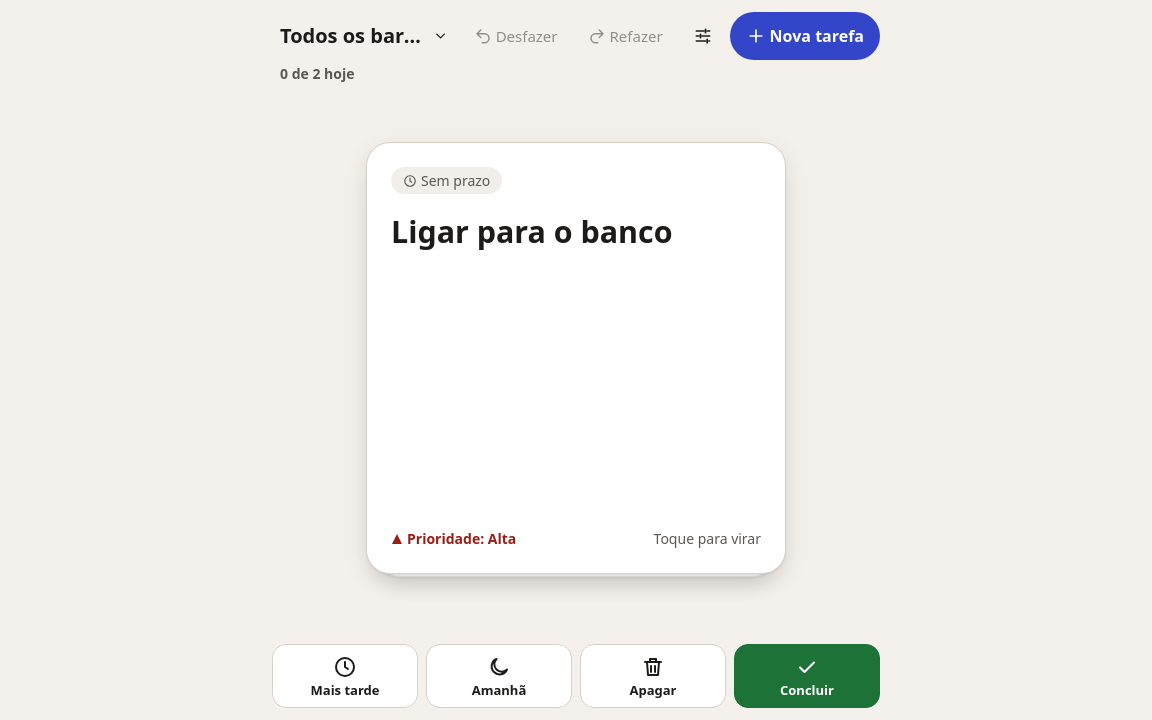
Test case: Tomorrow (snooze) from the deck › the "Amanhã" button hides the card, announces it with undo, and lists it under "Para amanhã"
This screenshot has width=1152, height=720.
Click the button "Amanhã" at (499, 676), box [426,644,572,708]
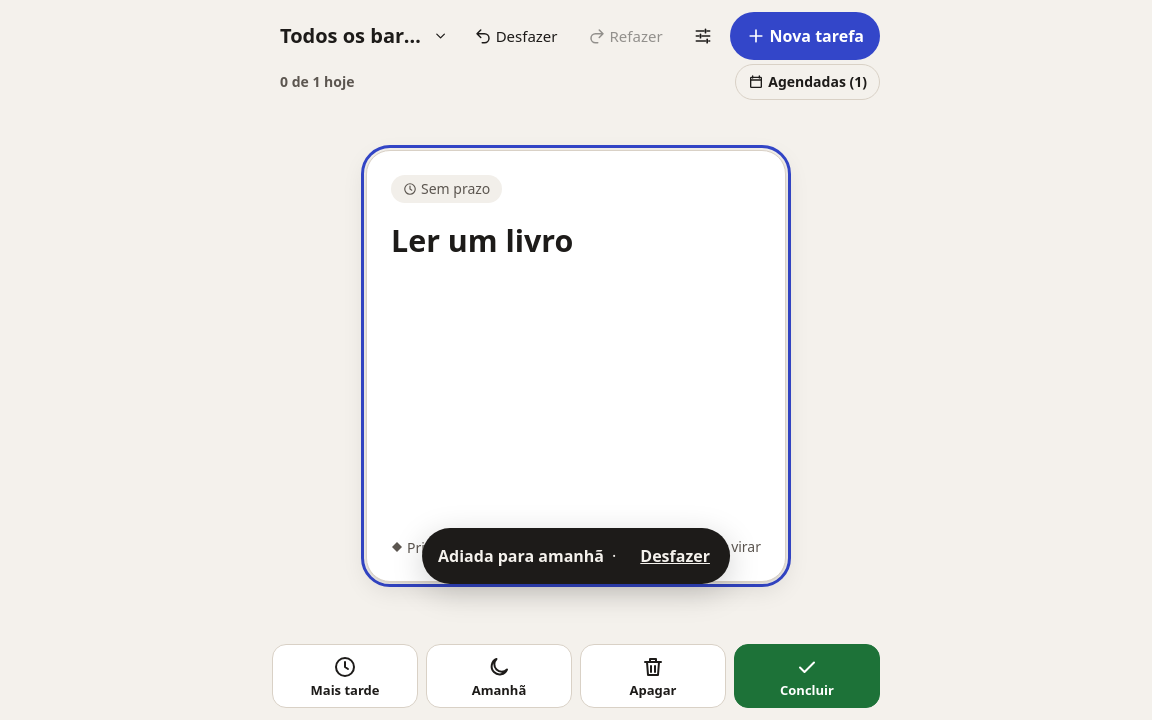
Expected: the element with test id "undo-toast" shows "Adiada para amanhã", [438,545,604,567]
Expected: the text with test id "daily-progress" reads "0 de 1 hoje", [280,72,354,91]
Click the button with aria-label "Agendadas: 1 carta" at (808, 82), box [735,64,880,100]
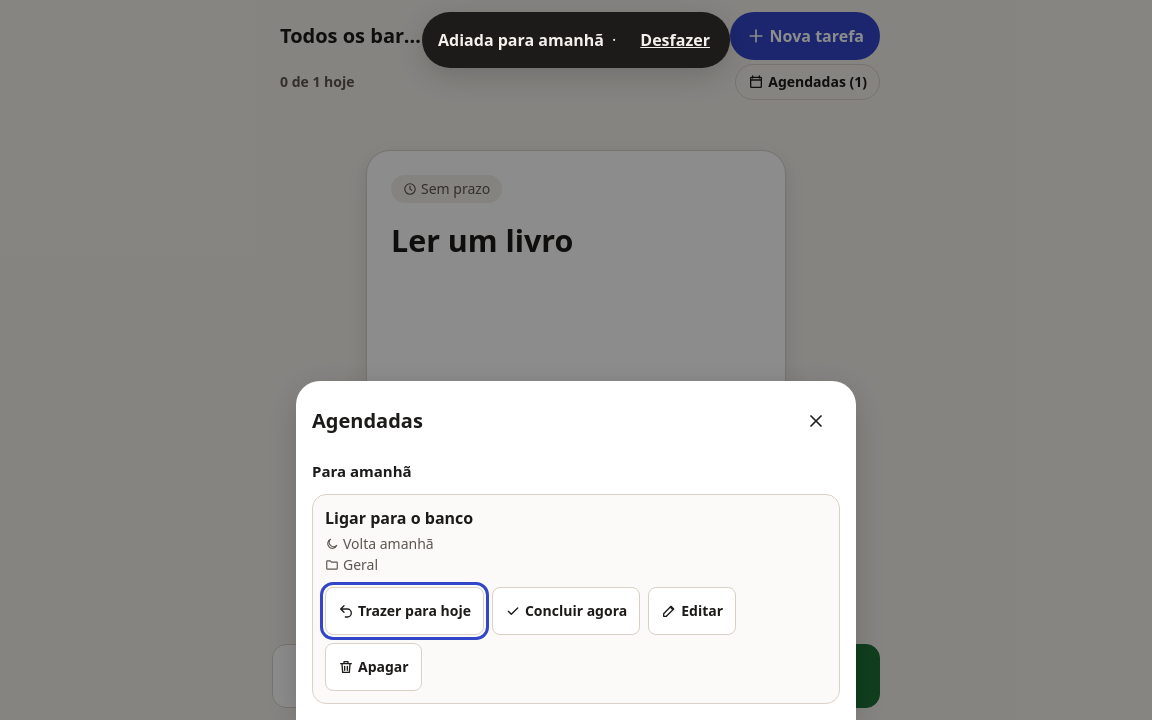
Expected: the heading "Para amanhã" is shown, [312,461,412,481]
Expected: the list item with test id "snoozed-item" shows "Ligar para o banco", [325,507,473,529]
